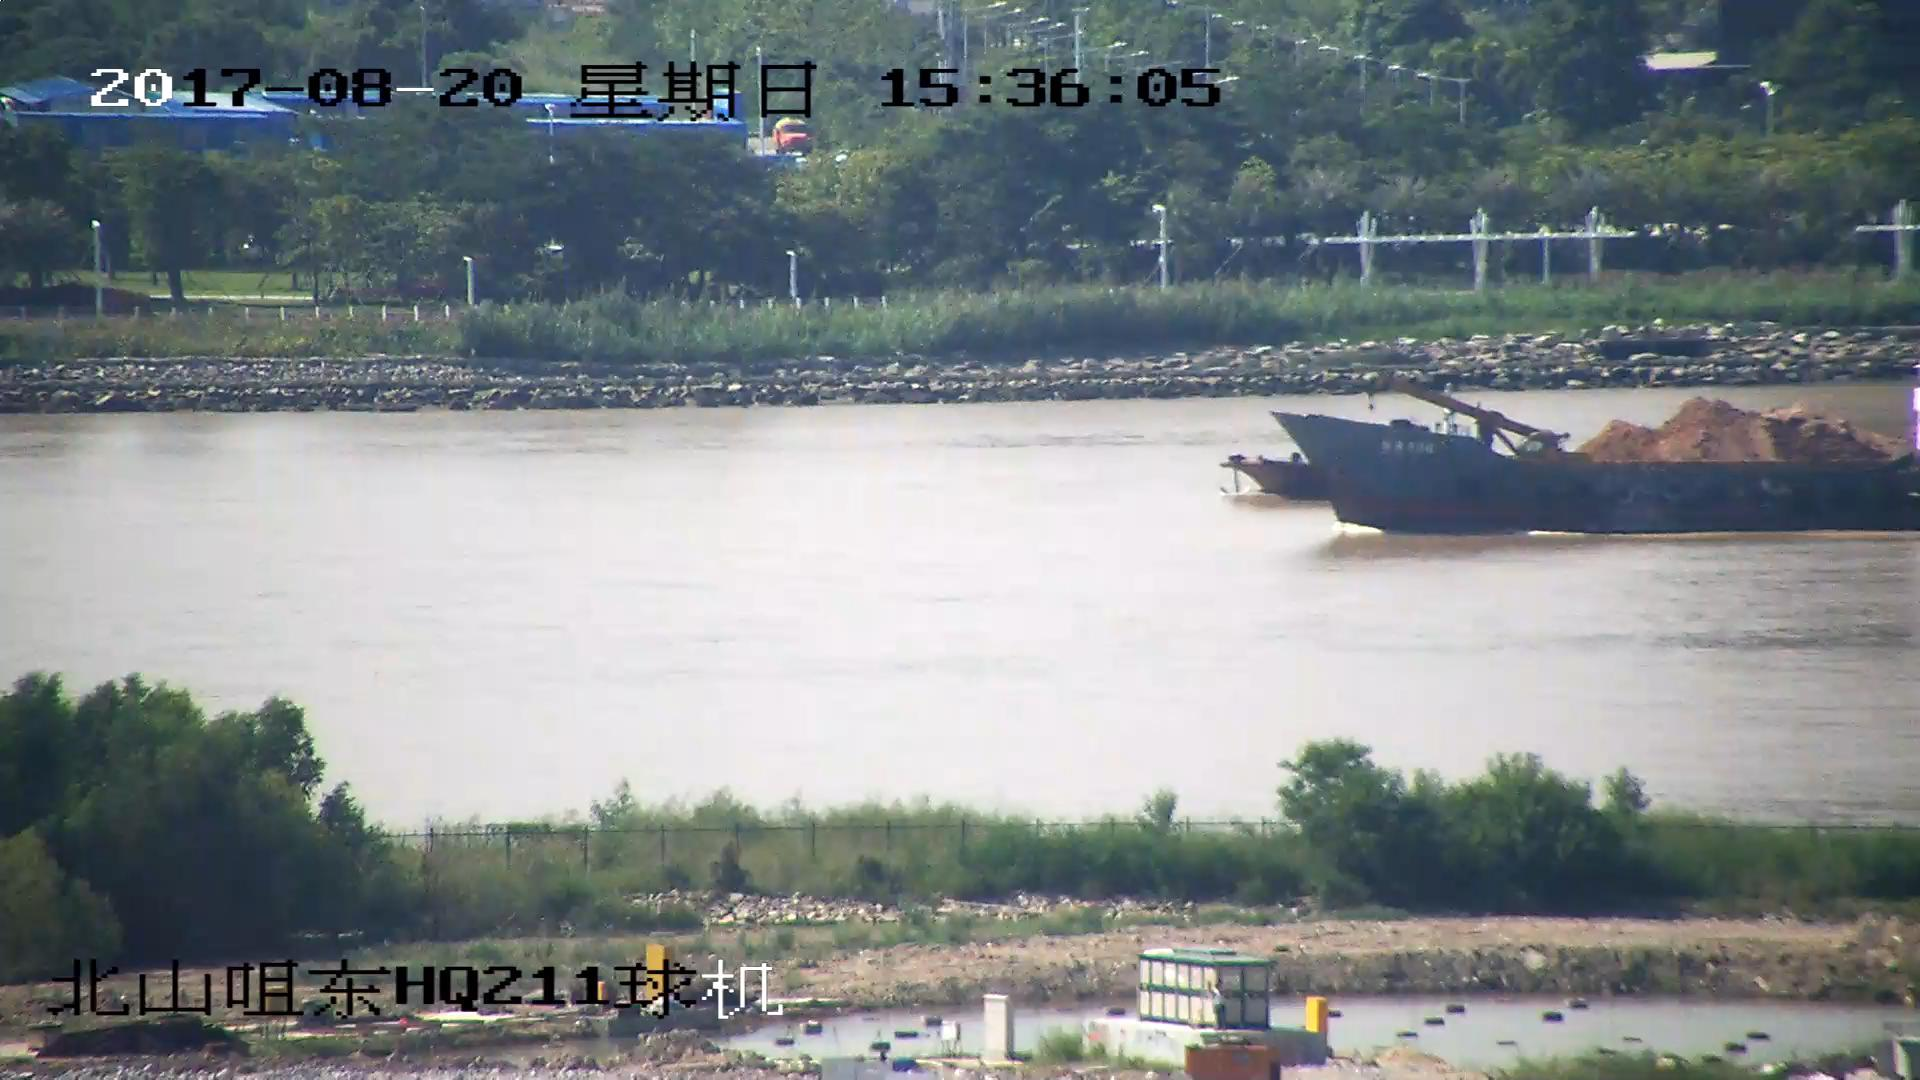Ship: (1273, 407, 1920, 531), (1222, 398, 1920, 506)
